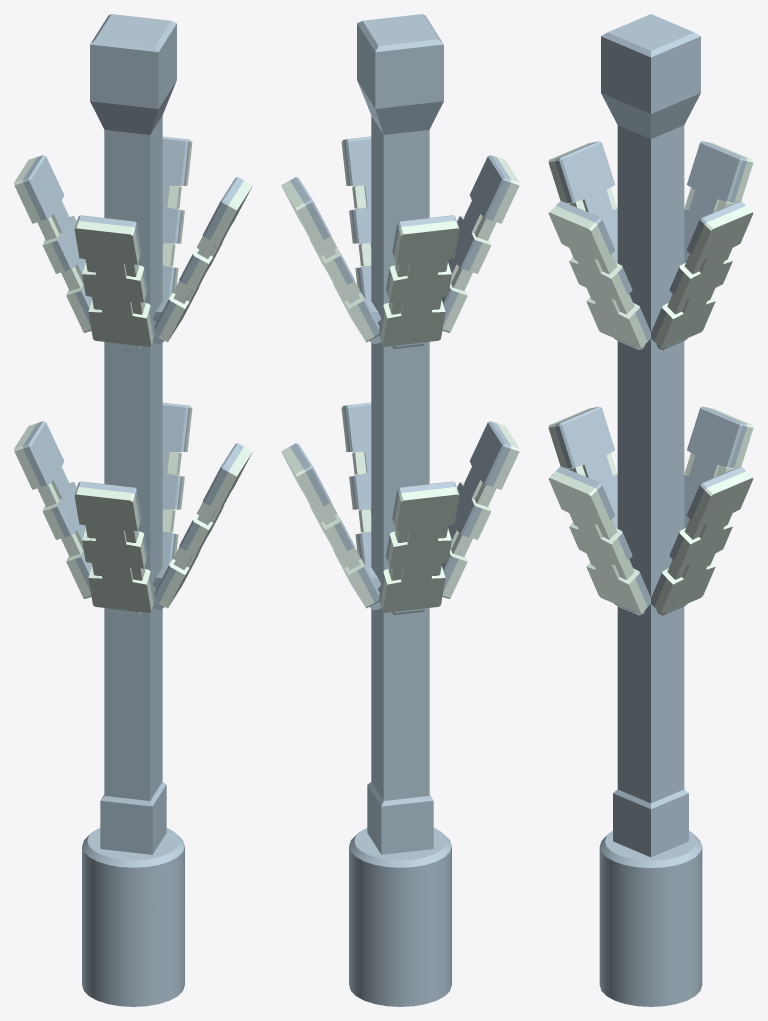
The model's file is streetlight_22_d2.fbx.
3 views of the same model, side by side, from view 1: azimuth 30°, elevation 25°; view 2: azimuth 150°, elevation 25°; view 3: azimuth 270°, elevation 25° (orthographic).
Parts seen in each view (by area): view 1: pCube21, polySurface41 (×8), streetlight_22_d2, polySurface40 (×4); view 2: pCube21, polySurface41 (×8), streetlight_22_d2, polySurface40 (×4); view 3: pCube21, polySurface41 (×8), streetlight_22_d2, polySurface40 (×4).
Boxes of the visible parts, left/top/right/bottom form: pCube21: left=90, top=14, right=176, bottom=854; polySurface41 (×8): left=14, top=136, right=252, bottom=612; streetlight_22_d2: left=82, top=828, right=184, bottom=1006; polySurface40 (×4): left=37, top=185, right=181, bottom=556; pCube21: left=357, top=14, right=443, bottom=854; polySurface41 (×8): left=281, top=136, right=519, bottom=612; streetlight_22_d2: left=349, top=828, right=451, bottom=1006; polySurface40 (×4): left=352, top=185, right=496, bottom=556; pCube21: left=601, top=14, right=700, bottom=857; polySurface41 (×8): left=548, top=141, right=753, bottom=614; streetlight_22_d2: left=599, top=831, right=702, bottom=1006; polySurface40 (×4): left=569, top=248, right=732, bottom=579.
Size of the model in its own units: 2.3 by 11.81 by 2.3.
